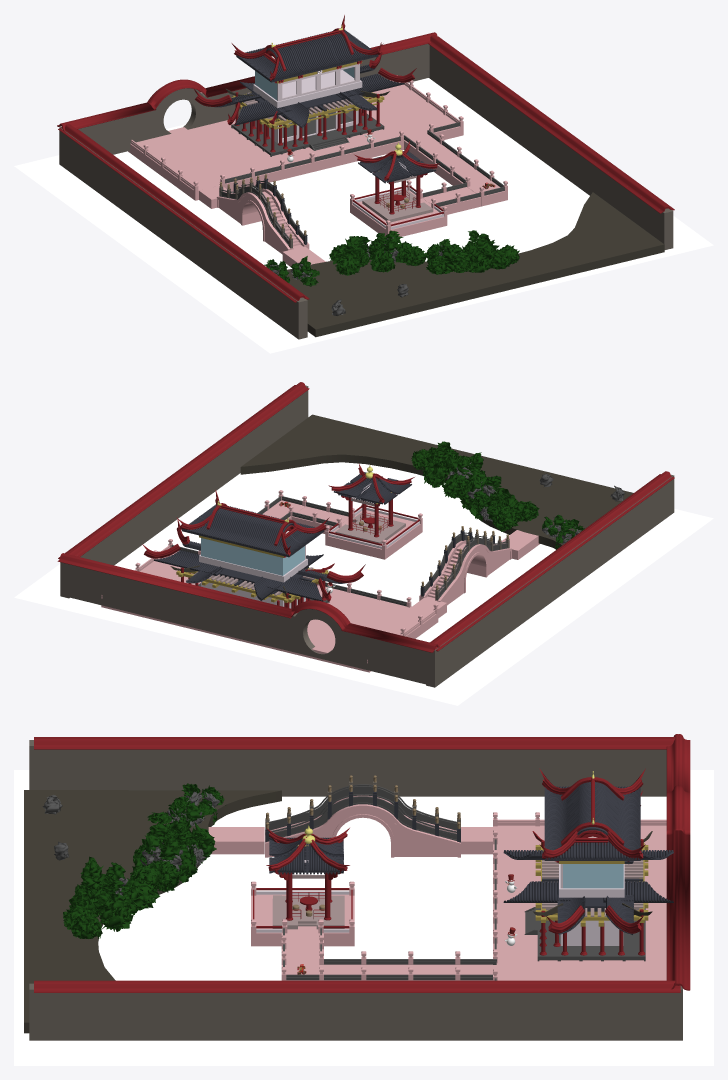
Rendered from newyears_min.glb.
3 renders of one model, top to bottom at view 1: azimuth 30°, elevation 25°; view 2: azimuth 150°, elevation 25°; view 3: azimuth 270°, elevation 25°, orthographic. The views are drawn at different scales.
Visible parts, largest first — view 1: Box83; view 2: Box83; view 3: Box83.
Part boxes in pixels (box(x1,y1,x2,y2)): Box83: box(14, 15, 713, 353); Box83: box(14, 382, 713, 705); Box83: box(14, 734, 713, 1065).
Size of the model in its own units: 82.6 by 19.25 by 82.6.
Materials: 22 (3 with a texture image).
